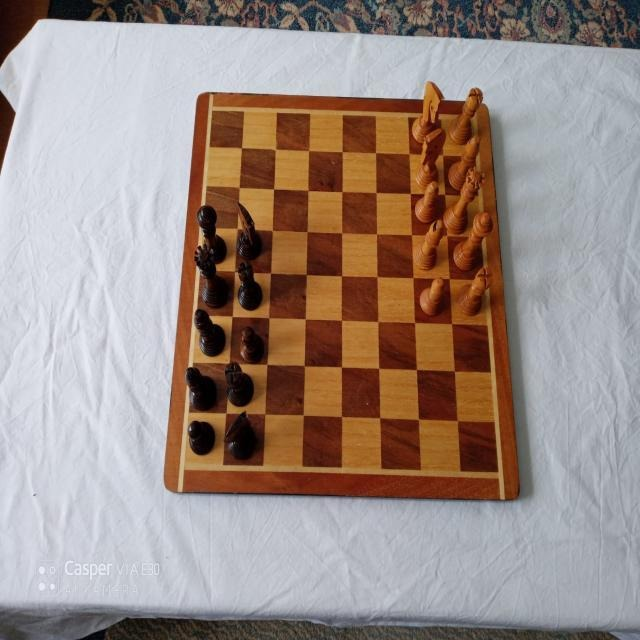black-bishop: (193, 307, 227, 357), (185, 366, 219, 410)
black-king: (196, 203, 228, 264)
black-knight: (235, 199, 263, 261), (223, 409, 257, 460)
black-pawn: (187, 420, 216, 456), (239, 325, 265, 363)
black-queen: (194, 243, 230, 309)
black-rook: (225, 361, 255, 407), (237, 259, 263, 310)
white-bishop: (447, 135, 480, 191), (411, 219, 444, 271)
white-king: (453, 212, 492, 272)
white-knight: (411, 79, 444, 144), (415, 126, 447, 190)
white-pawn: (414, 180, 439, 224), (418, 278, 445, 318)
white-queen: (442, 165, 485, 234)
white-rook: (448, 86, 484, 145), (456, 267, 494, 317)
